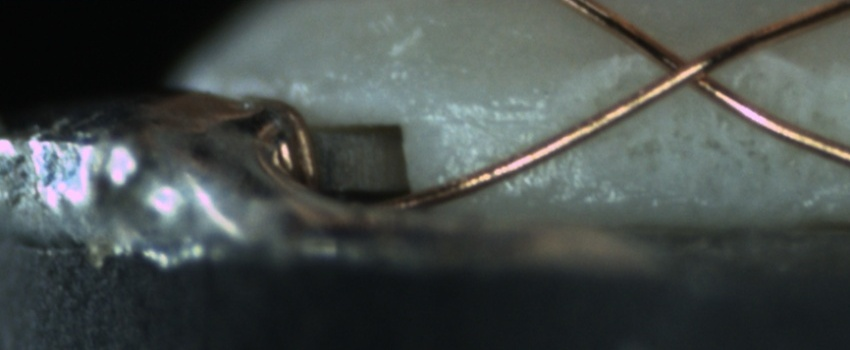CL: (642, 36, 736, 102)
DL: (433, 88, 559, 148)
TE: (240, 94, 329, 201)
